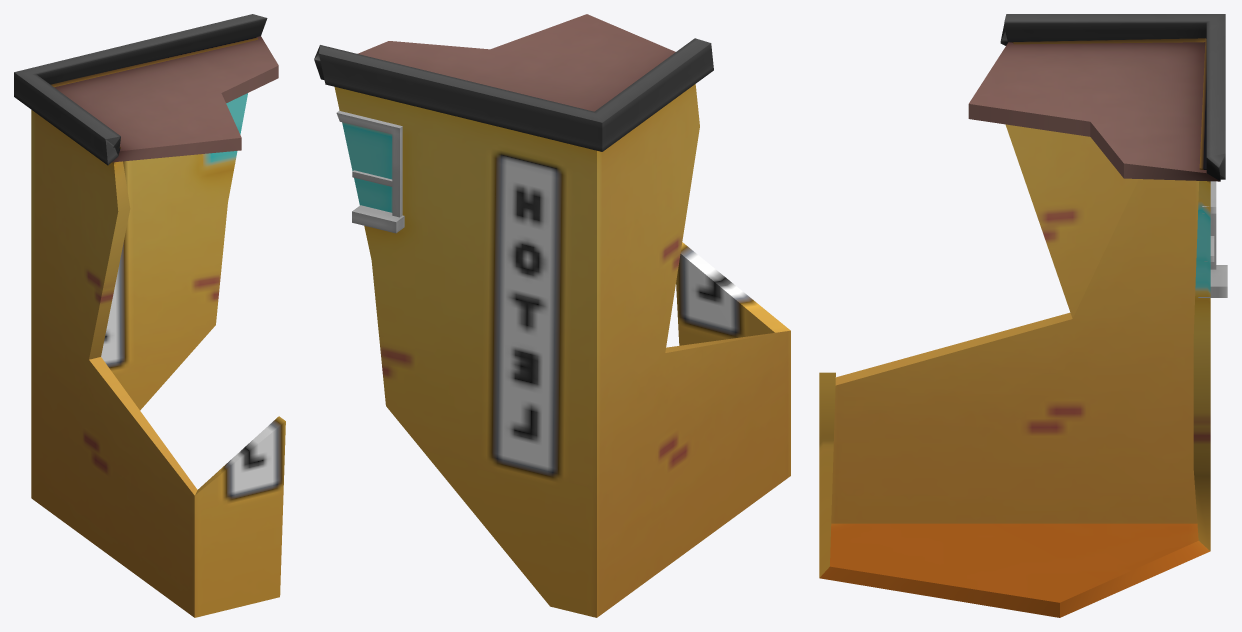
Rendered from B8Broke01.FBX.
The picture shows the model from 3 angles, left to right: view 1: azimuth 30°, elevation 25°; view 2: azimuth 150°, elevation 25°; view 3: azimuth 270°, elevation 25°; orthographic projection. The views are drawn at different scales.
Visible parts, largest first — view 1: B8Broke01; view 2: B8Broke01; view 3: B8Broke01.
Boxes of the visible parts, bbox=[...] form: B8Broke01: bbox=[14, 14, 285, 617]; B8Broke01: bbox=[314, 14, 790, 617]; B8Broke01: bbox=[819, 14, 1227, 617].
Bounding box in the file's own units: 40.81 × 67.36 × 49.09.
